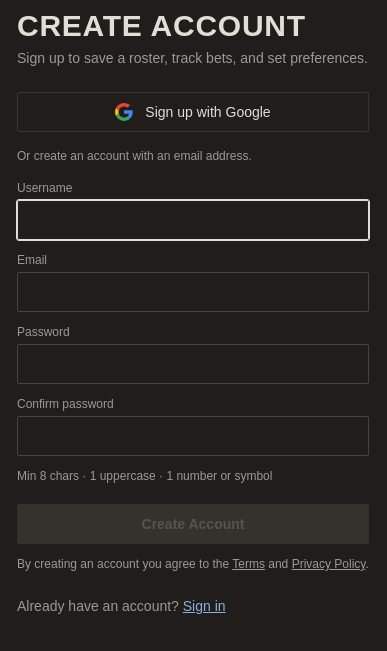
Test: RegisterPage › changes the button label while the account is being created
This screenshot has width=387, height=651.
Type "cj" into the field labelled "Username" at [193, 220], box [17,200,369,240]
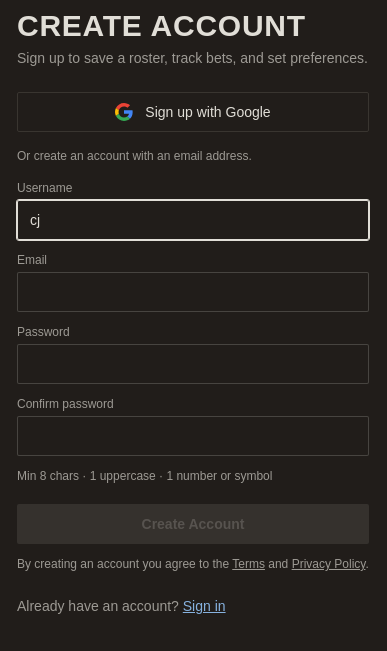
Type "cj@example.com" into the field labelled "Email" at [193, 292], box [17,272,369,312]
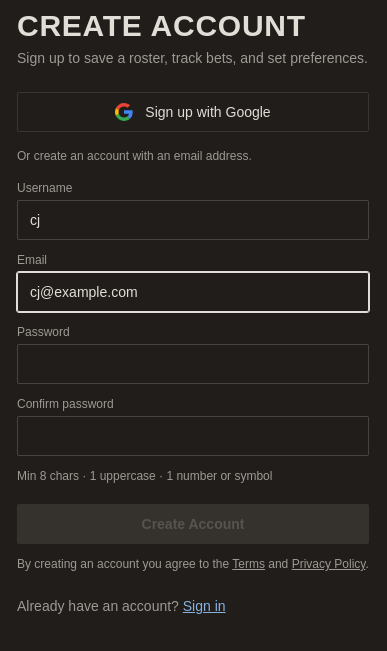
Type "Hardwood1" into the password field labelled "Password" at [193, 364], box [17,344,369,384]
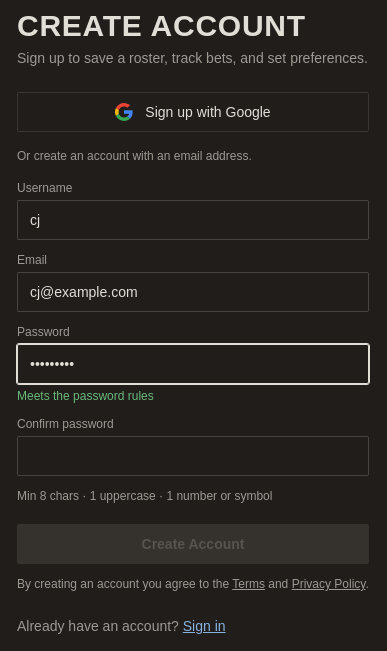
Type "Hardwood1" into the password field labelled "Confirm password" at [193, 456], box [17,436,369,476]
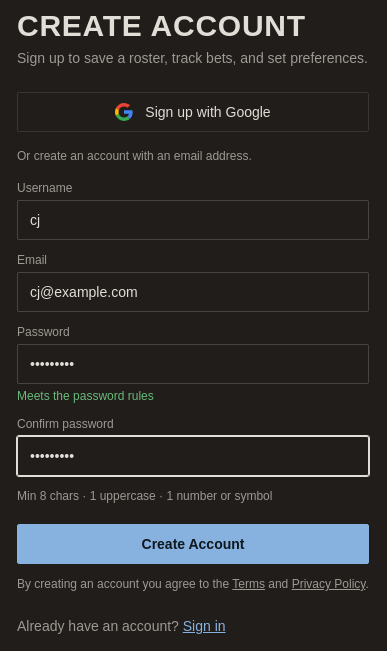
Click the button "Create Account" at [193, 544], box [17,524,369,564]
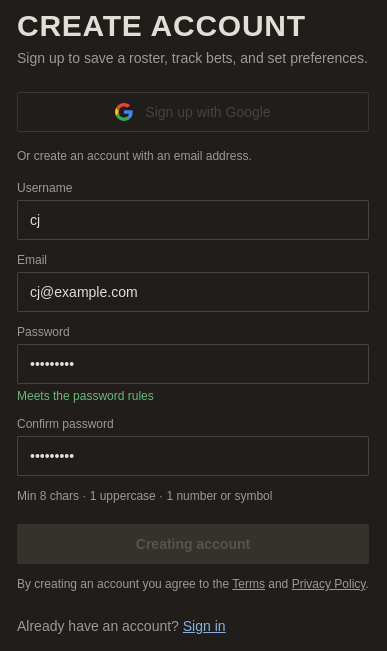
Expected: the button "Creating account" is disabled, [17,524,369,564]
